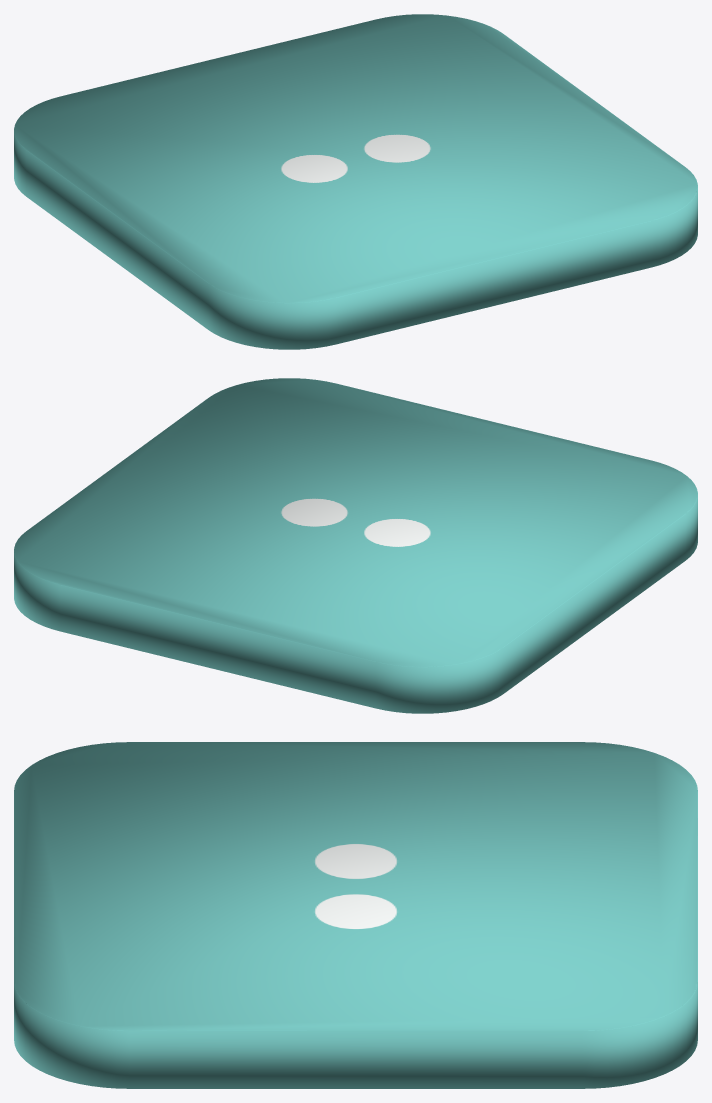
Rendered from back_square.glb.
3 renders of one model, top to bottom at view 1: azimuth 30°, elevation 25°; view 2: azimuth 150°, elevation 25°; view 3: azimuth 270°, elevation 25°, orthographic. The views are drawn at different scales.
Visible parts, largest first — view 1: back_square; view 2: back_square; view 3: back_square.
Part boxes in pixels (x1,y1,x2,y2): back_square: [14, 14, 697, 349]; back_square: [14, 378, 697, 713]; back_square: [14, 742, 697, 1088].
Size of the model in its own units: 0.0258 by 0.0024 by 0.0258.
2 materials, 1 textured.
